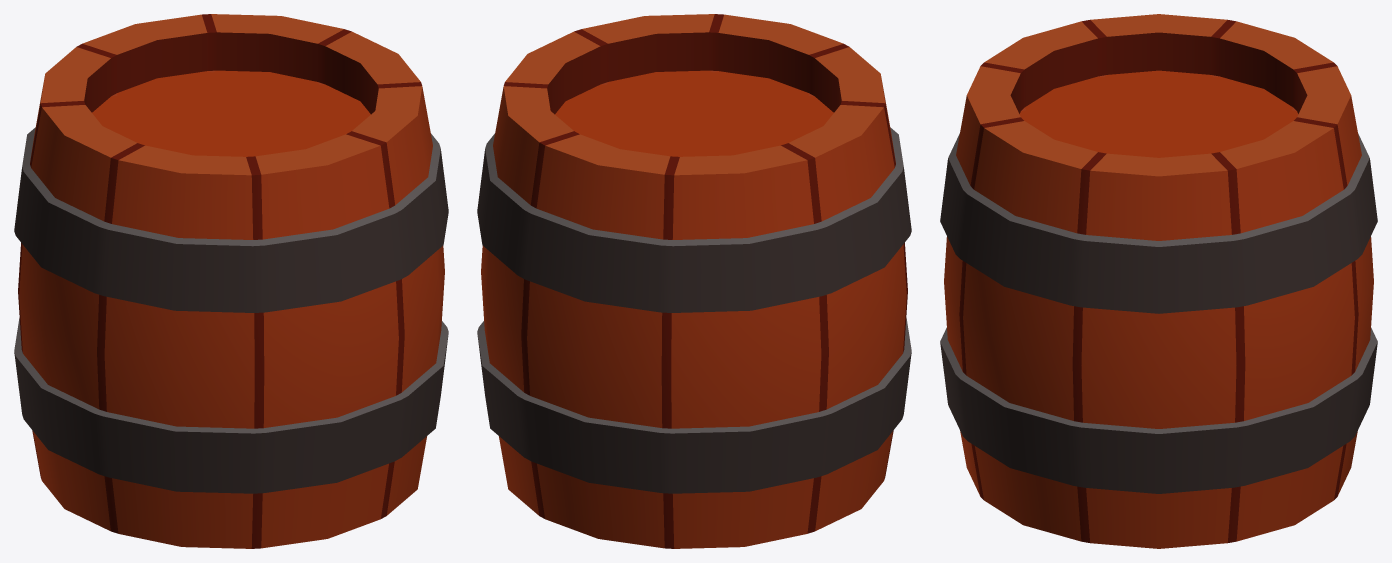
Rendered from barwl.FBX.
The picture shows the model from 3 angles, left to right: view 1: azimuth 30°, elevation 25°; view 2: azimuth 150°, elevation 25°; view 3: azimuth 270°, elevation 25°; orthographic projection.
Visible parts, largest first — view 1: Cylinder003; view 2: Cylinder003; view 3: Cylinder003.
Part boxes in pixels (box(x1,y1,x2,y2)): Cylinder003: box(14, 14, 448, 548); Cylinder003: box(477, 14, 911, 548); Cylinder003: box(940, 14, 1377, 548).
Bounding box in the file's own units: 41.93 × 39.37 × 41.93.
